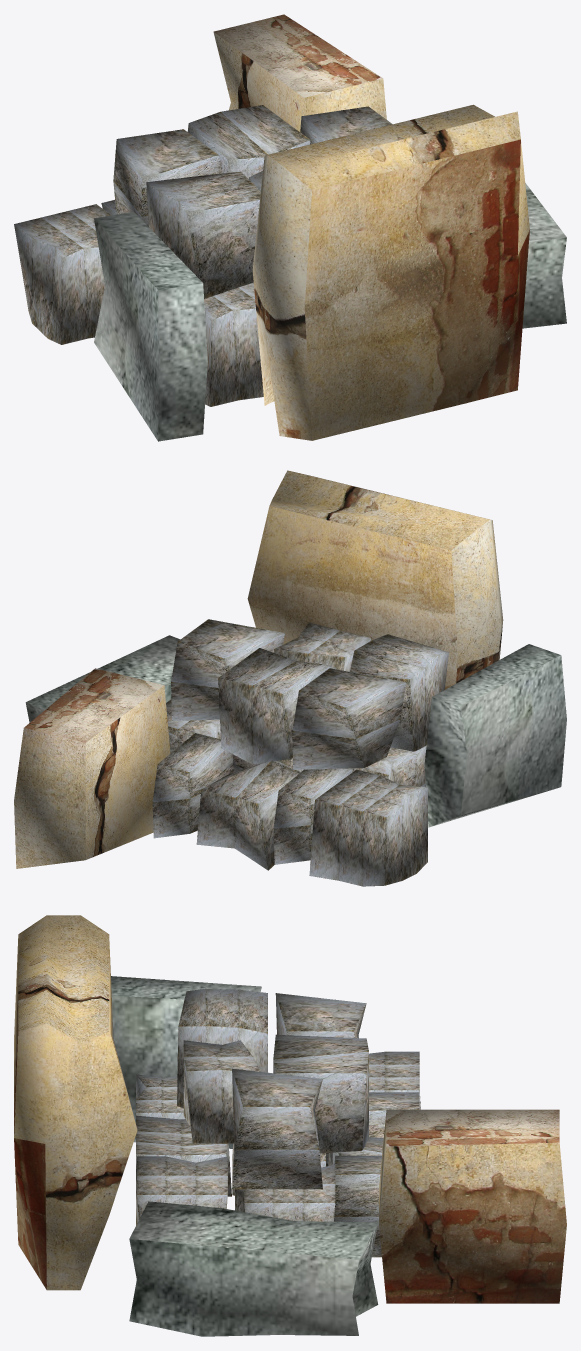
Rendered from Rubble.fbx.
3 views of the same model, one above another, from view 1: azimuth 30°, elevation 25°; view 2: azimuth 150°, elevation 25°; view 3: azimuth 270°, elevation 25° (orthographic). The views are drawn at different scales.
Visible parts, largest first — view 1: bigRubble, pileOfRubble, mediumRubble; view 2: pileOfRubble, bigRubble, mediumRubble; view 3: bigRubble, pileOfRubble, mediumRubble.
Part boxes in pixels (x1,y1,x2,y2): bigRubble: [213, 14, 529, 440]; pileOfRubble: [14, 105, 392, 406]; mediumRubble: [94, 183, 566, 441]; pileOfRubble: [152, 619, 448, 886]; bigRubble: [14, 470, 503, 868]; mediumRubble: [25, 635, 566, 827]; bigRubble: [14, 915, 566, 1303]; pileOfRubble: [136, 988, 420, 1257]; mediumRubble: [111, 976, 378, 1336].
Size of the model in its own units: 2.91 by 1.63 by 3.06.
